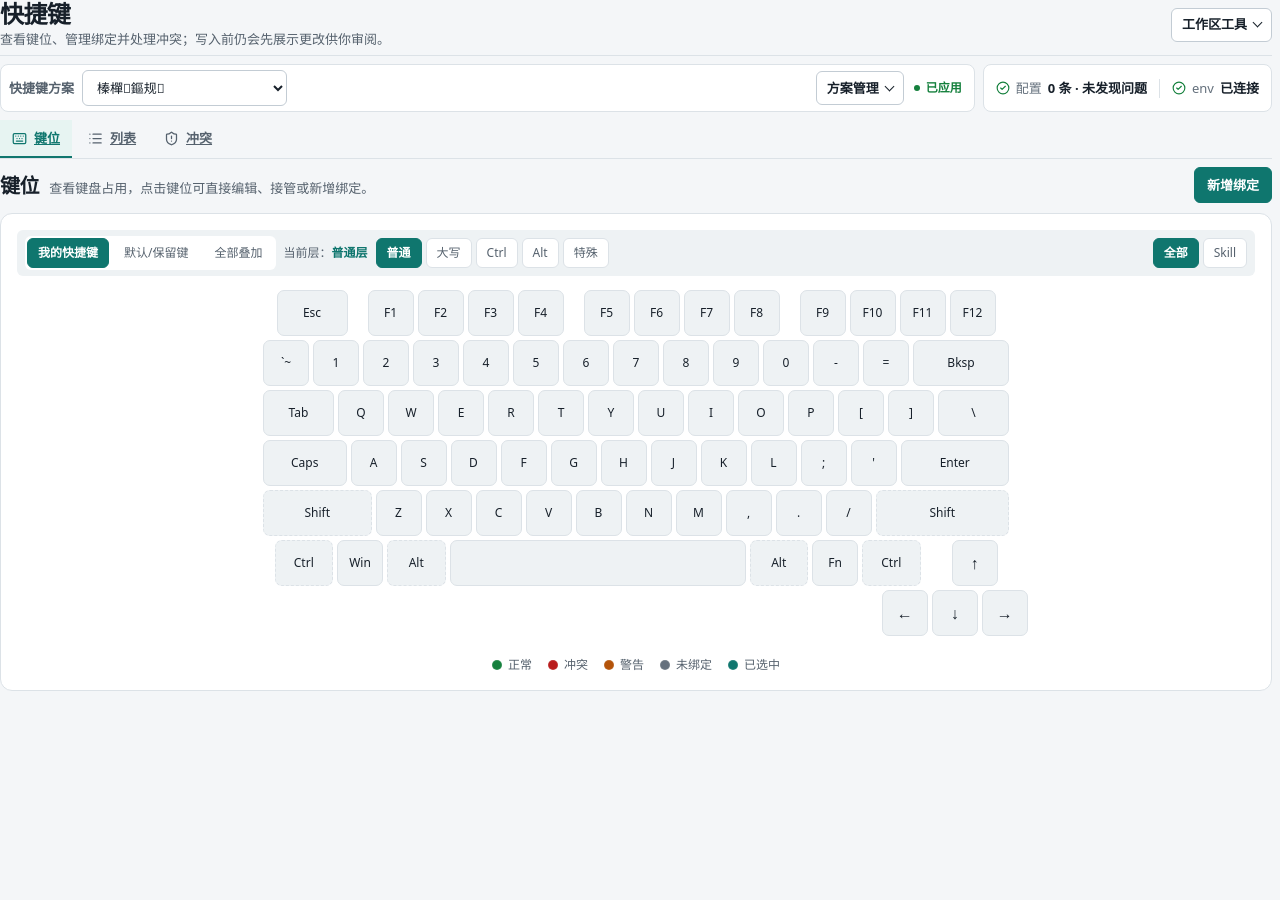
Test case: hotkey workspace shared data › allows adding a binding without preselecting an existing binding
The image size is (1280, 900).
Expected: the heading "键位" is shown, x1=0 y1=172 x2=39 y2=198
Click the button "新增绑定".
click(1233, 185)  # box x1=1194 y1=167 x2=1272 y2=203
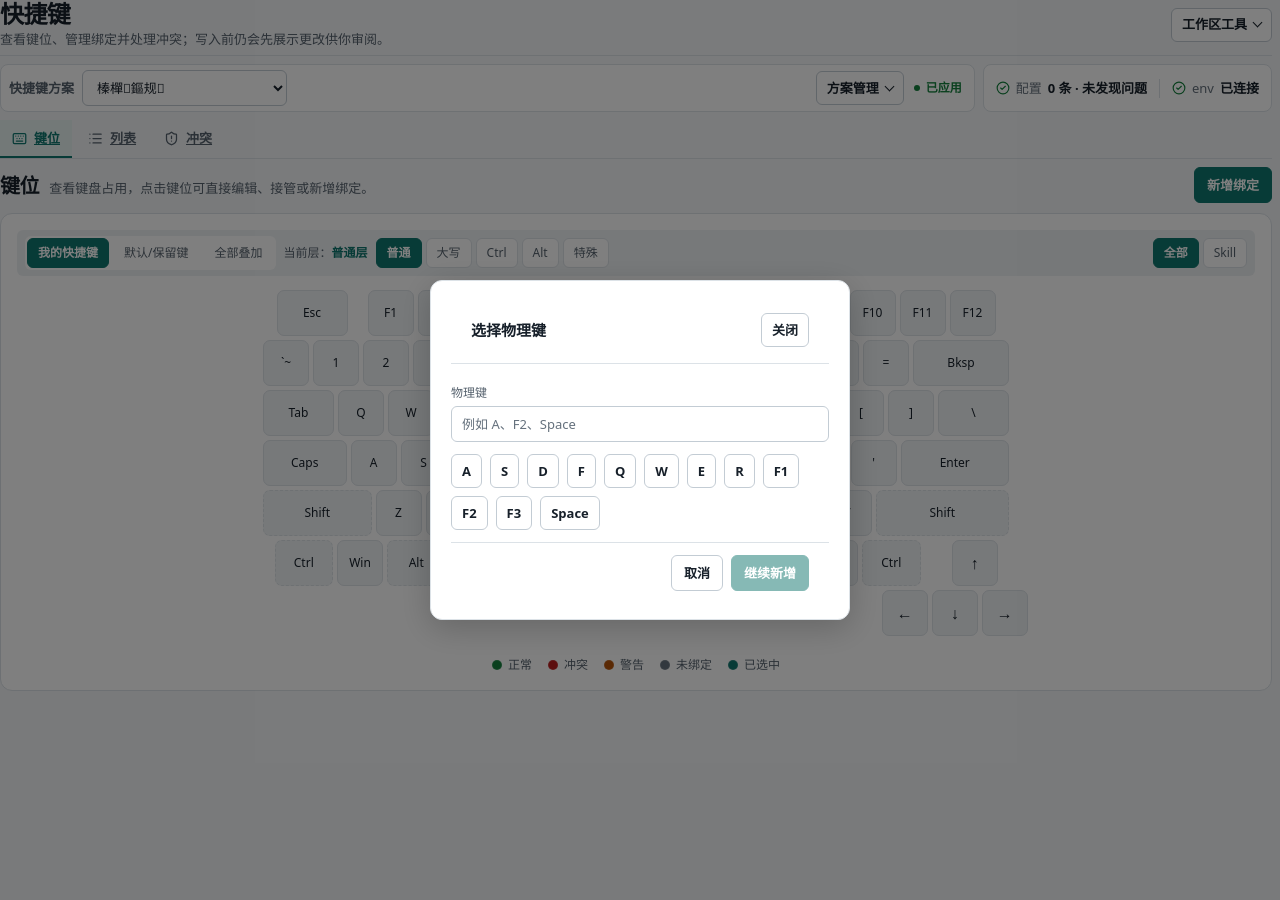
Now the heading "选择物理键" is shown, box x1=471 y1=319 x2=546 y2=341
Type "F2" into the field labelled "物理键".
click(640, 424); type("F2")  # box x1=451 y1=406 x2=829 y2=442
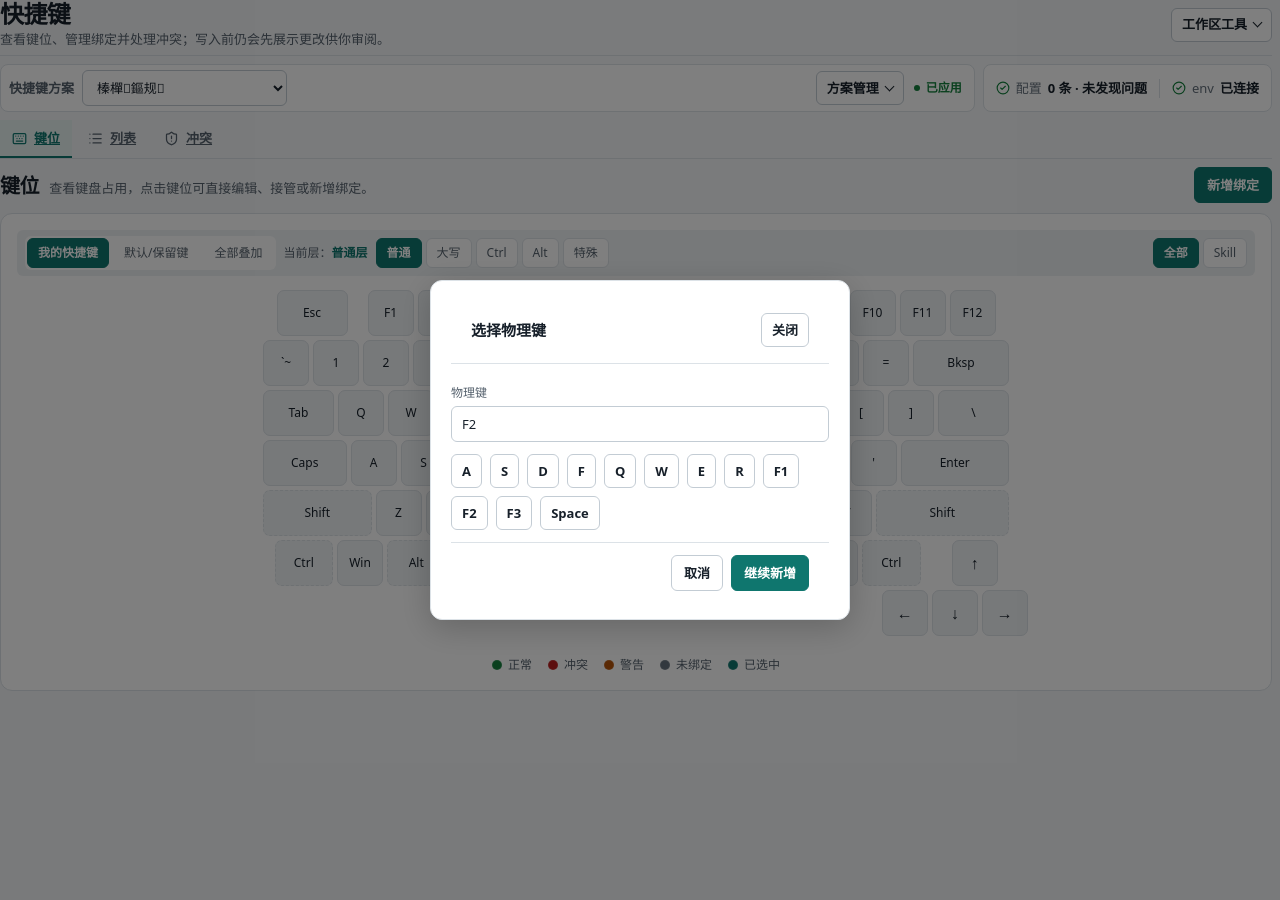
Click the button "继续新增".
click(770, 573)  # box x1=731 y1=555 x2=809 y2=591
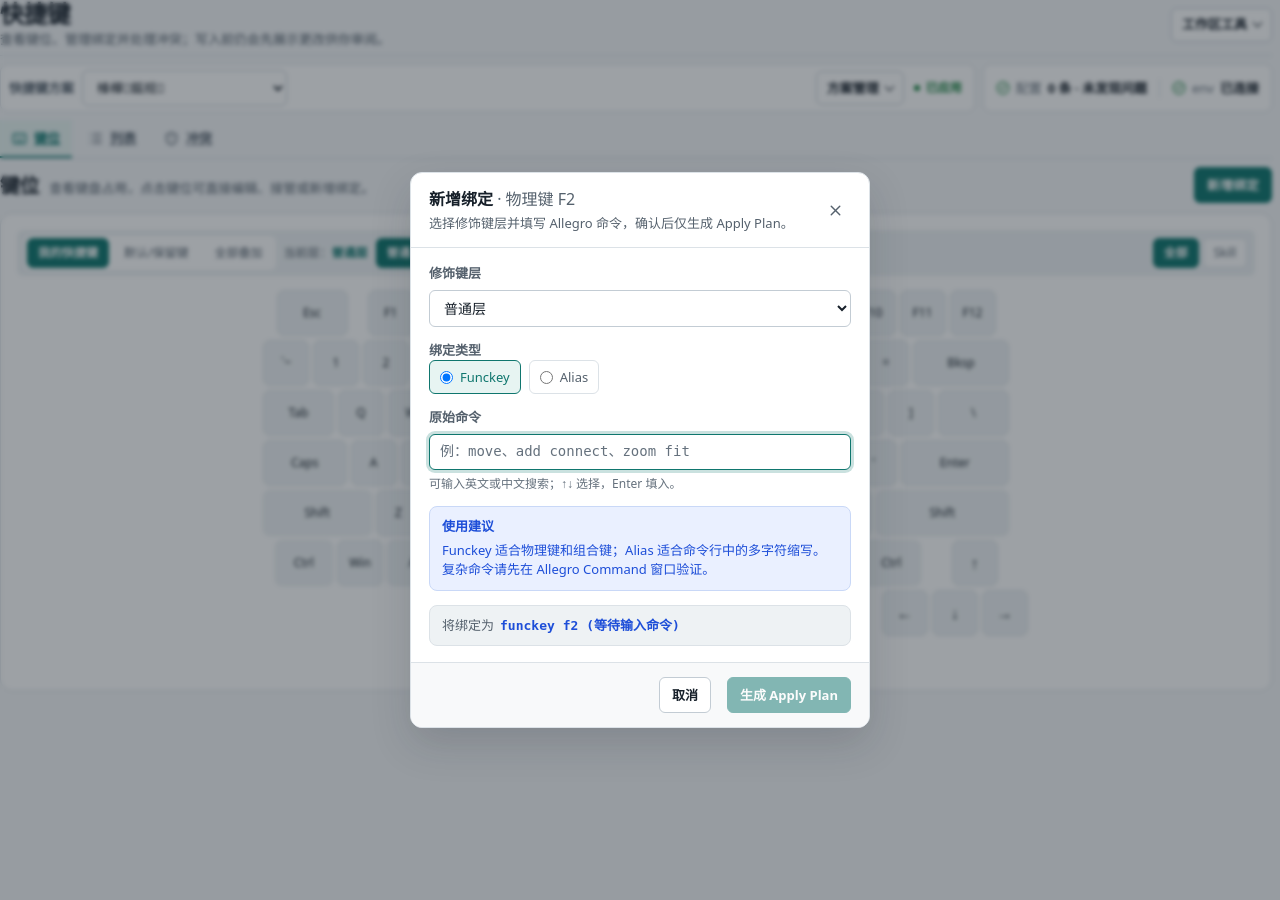
Now the text "· 物理键 F2" is shown, box x1=493 y1=188 x2=575 y2=210
